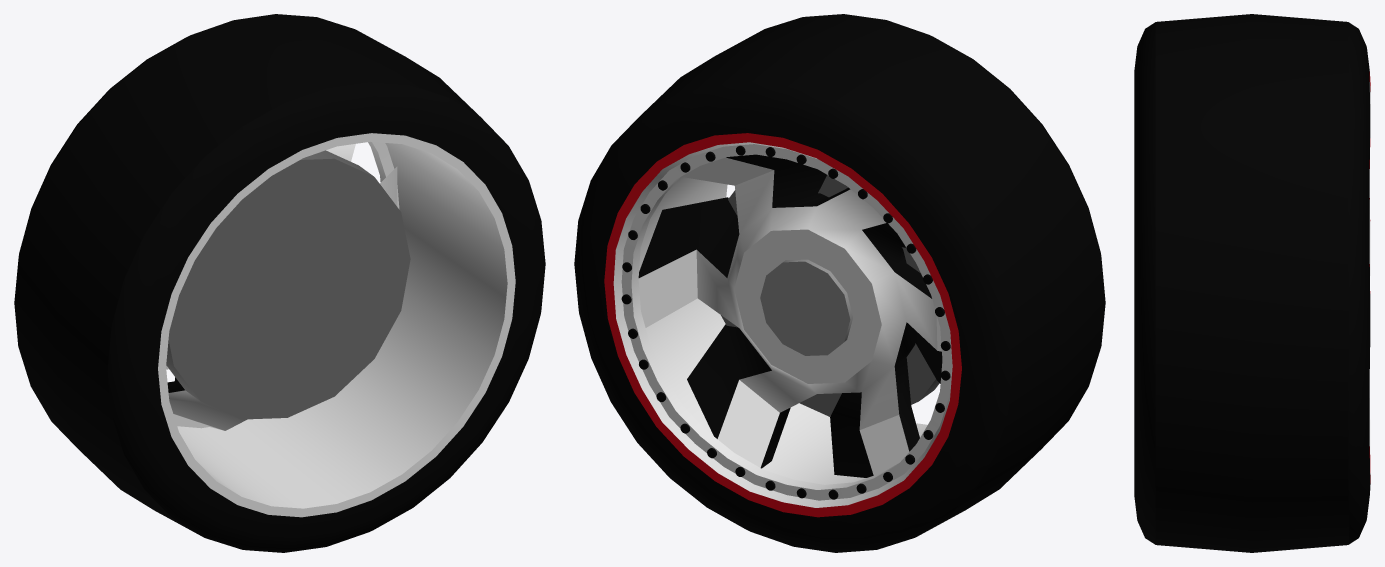
The model's file is Gc14_Rims_3_L.fbx.
The picture shows the model from 3 angles, left to right: view 1: azimuth 30°, elevation 25°; view 2: azimuth 150°, elevation 25°; view 3: azimuth 270°, elevation 25°; orthographic projection. The views are drawn at different scales.
Visible parts, largest first — view 1: Cylinder; view 2: Cylinder; view 3: Cylinder.
Part boxes in pixels (<box>): Cylinder: <box>14,14,545,552</box>; Cylinder: <box>574,14,1105,552</box>; Cylinder: <box>1134,14,1370,552</box>.
Size of the model in its own units: 48 by 48 by 21.
